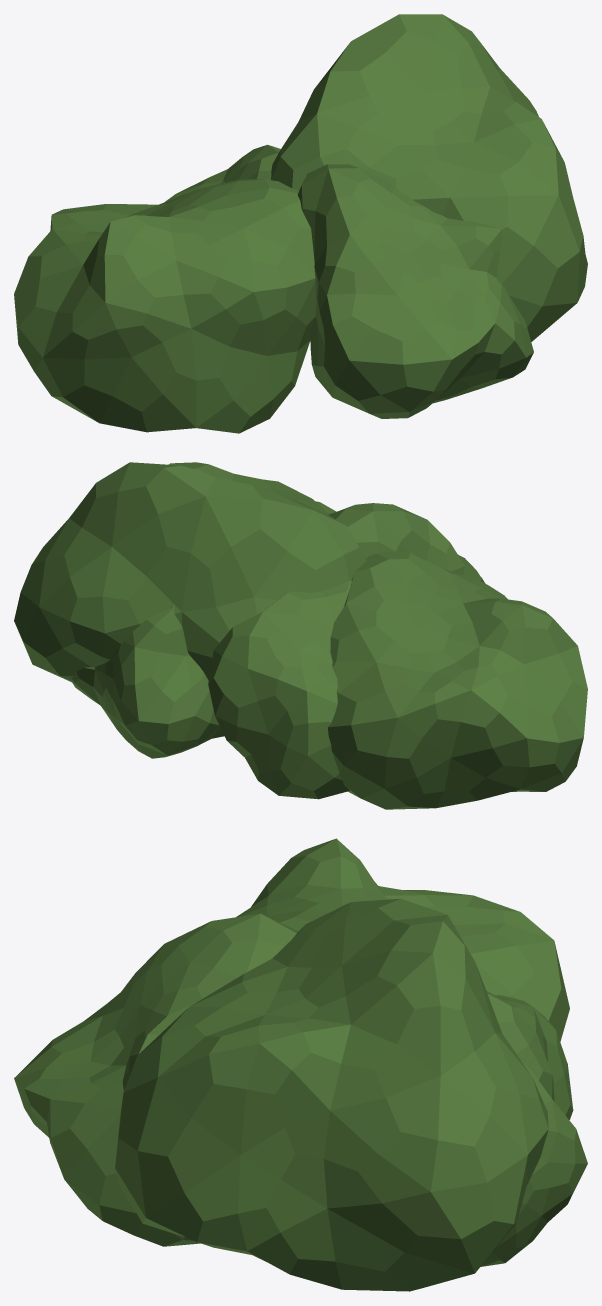
The model's file is bush7.fbx.
3 renders of one model, top to bottom at view 1: azimuth 30°, elevation 25°; view 2: azimuth 150°, elevation 25°; view 3: azimuth 270°, elevation 25°, orthographic. The views are drawn at different scales.
Visible parts, largest first — view 1: Icosphere.007, Icosphere.003, Icosphere.008, Icosphere.010; view 2: Icosphere.007, Icosphere.003, Icosphere.010, Icosphere.009, Icosphere.008; view 3: Icosphere.003, Icosphere.008, Icosphere.007, Icosphere.009, Icosphere.010.
Boxes of the visible parts, bbox=[...] form: Icosphere.007: bbox=[14, 179, 316, 433]; Icosphere.003: bbox=[271, 14, 587, 341]; Icosphere.008: bbox=[297, 164, 533, 418]; Icosphere.010: bbox=[165, 144, 280, 201]; Icosphere.007: bbox=[328, 551, 587, 809]; Icosphere.003: bbox=[14, 462, 366, 682]; Icosphere.010: bbox=[208, 580, 351, 799]; Icosphere.009: bbox=[71, 603, 224, 758]; Icosphere.008: bbox=[315, 501, 484, 582]; Icosphere.003: bbox=[115, 898, 548, 1291]; Icosphere.008: bbox=[14, 913, 298, 1246]; Icosphere.007: bbox=[236, 838, 569, 1041]; Icosphere.009: bbox=[480, 1061, 587, 1266]; Icosphere.010: bbox=[486, 991, 573, 1119].
Bounding box in the file's own units: 273 × 140 × 205.
